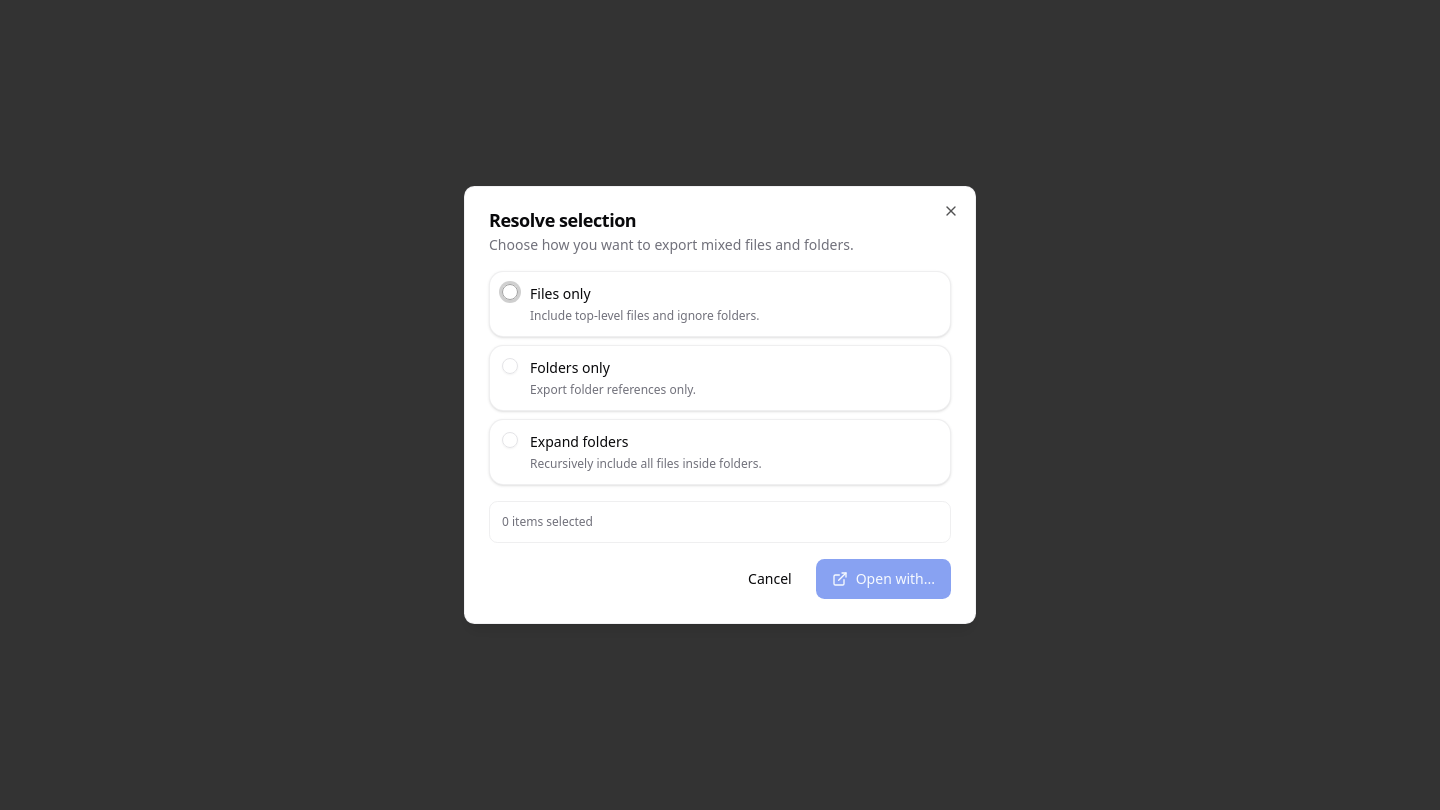
it: ExportResolutionModal › enables proceed button with a valid selection
Click the radio button named "files only" next to "Files only": x=510, y=292 [502,284,518,300]
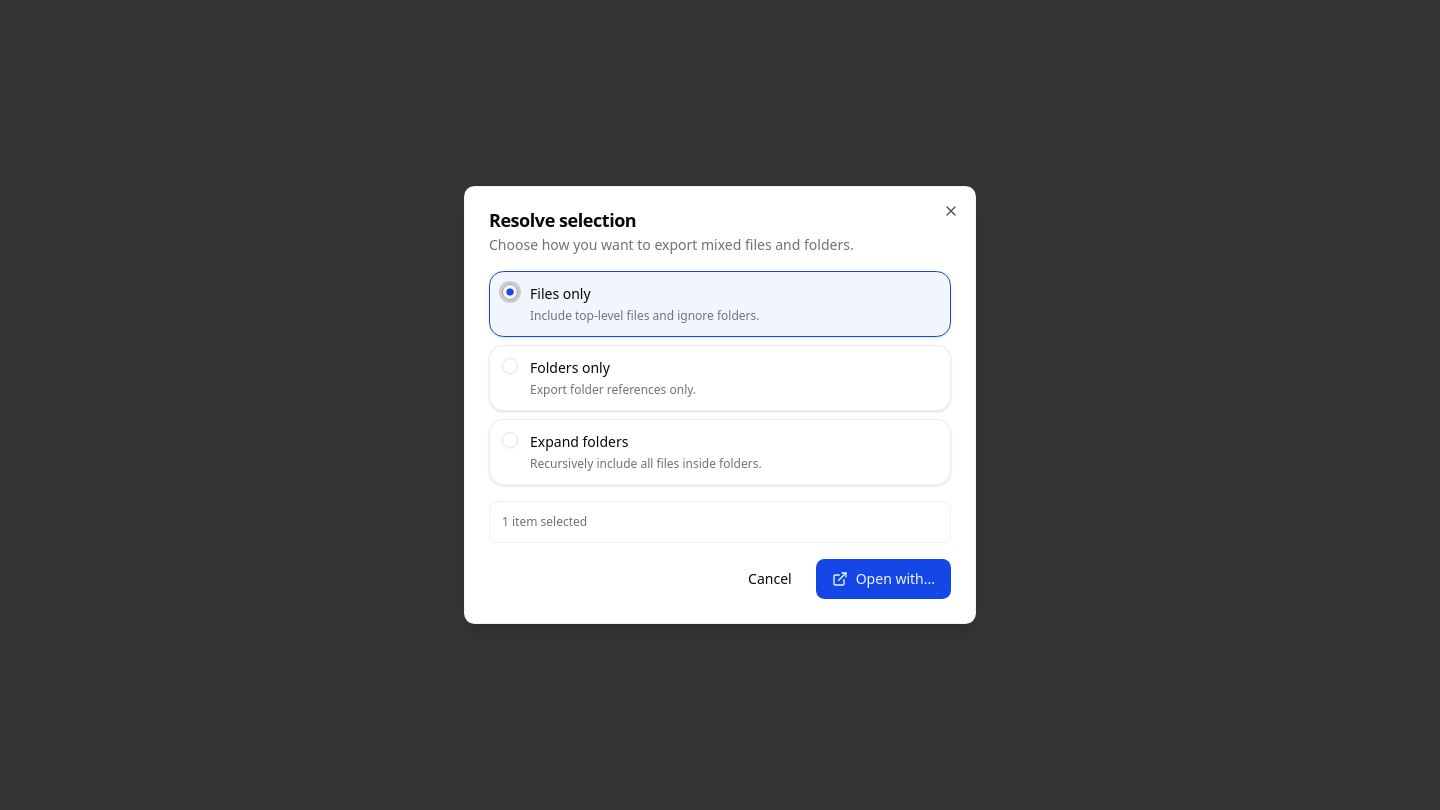
Result: the button "Open with..." is enabled at [816,559,951,599]
